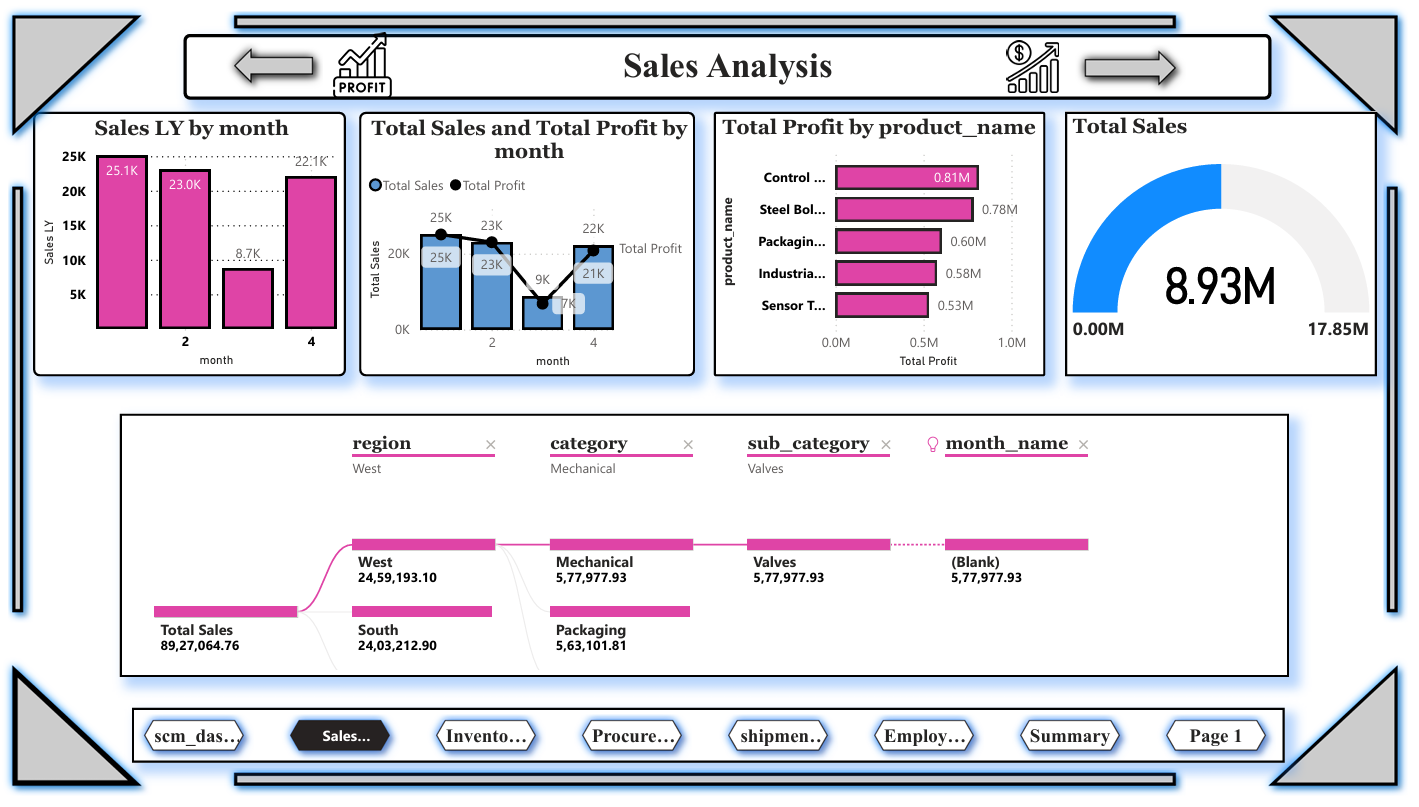

This screenshot's page, from the dashboard's own definition file:
{"tool":"powerbi","page":{"name":"Sales Analysis","canvas":[1280,720],"ordinal":1},"visuals":[{"type":"textbox","box":[165.2,25.9,991,59.9],"z":0},{"type":"columnChart","fields":{"Category":["dim_date.month"],"Y":["dim_customer.Sales LY"]},"box":[27.5,97.2,285,241.3],"z":1000},{"type":"lineStackedColumnComboChart","fields":{"Category":["dim_date.month"],"Y":["dim_customer.Total Sales"],"Y2":["dim_customer.Total Profit"]},"box":[325.5,97.2,306,241.3],"z":2000},{"type":"clusteredBarChart","fields":{"Y":["dim_customer.Total Profit"],"Category":["dim_product.product_name"]},"box":[647.7,97.2,302.8,241.3],"z":3000},{"type":"shape","box":[0,0,136,128],"z":4000},{"type":"shape","box":[1144,0,136,128],"z":5000},{"type":"shape","box":[1144,592,136,128],"z":6000},{"type":"shape","box":[0,592,136,128],"z":7000},{"type":"shape","box":[202,0,876,30],"z":8000},{"type":"shape","box":[1252,156,28,406],"z":9000},{"type":"shape","box":[0,156,28,406],"z":10000},{"type":"shape","box":[202,690,876,30],"z":11000},{"type":"gauge","fields":{"Y":["dim_customer.Total Sales"]},"box":[968.3,97.2,283.4,241.3],"z":12000},{"type":"decompositionTreeVisual","fields":{"Analyze":["dim_customer.Total Sales"],"ExplainBy":["dim_customer.region","dim_product.category","dim_product.sub_category","dim_date.month_name"]},"box":[106.9,372.4,1065.5,239.6],"z":13000},{"type":"shape","box":[201.7,30,90,50],"z":14000},{"type":"shape","box":[976.7,31.7,101.7,50],"z":15000},{"type":"pageNavigator","box":[118.3,640,1050,50],"z":16000},{"type":"image","box":[293.1,16.2,69.6,77.7],"z":17000},{"type":"image","box":[910,21,58.3,69.6],"z":18000}]}

Visuals, with their boxes in screenshot pixels (x1, y1, x2, y2), scaled from the page's 1280x720 canvas onto the 1419x807 screenshot:
textbox: (left=183, top=29, right=1282, bottom=96)
columnChart - dim_date.month x dim_customer.Sales LY: (left=30, top=109, right=346, bottom=379)
lineStackedColumnComboChart - dim_date.month x dim_customer.Total Sales: (left=361, top=109, right=700, bottom=379)
clusteredBarChart - dim_customer.Total Profit x dim_product.product_name: (left=718, top=109, right=1054, bottom=379)
shape: (left=0, top=0, right=151, bottom=143)
shape: (left=1268, top=0, right=1418, bottom=143)
shape: (left=1268, top=664, right=1418, bottom=806)
shape: (left=0, top=664, right=151, bottom=806)
shape: (left=224, top=0, right=1195, bottom=34)
shape: (left=1388, top=175, right=1418, bottom=630)
shape: (left=0, top=175, right=31, bottom=630)
shape: (left=224, top=773, right=1195, bottom=806)
gauge - dim_customer.Total Sales: (left=1073, top=109, right=1388, bottom=379)
decompositionTreeVisual - dim_customer.Total Sales x dim_customer.region: (left=119, top=417, right=1300, bottom=686)
shape: (left=224, top=34, right=323, bottom=90)
shape: (left=1083, top=36, right=1196, bottom=92)
pageNavigator: (left=131, top=717, right=1295, bottom=773)
image: (left=325, top=18, right=402, bottom=105)
image: (left=1009, top=24, right=1073, bottom=102)
